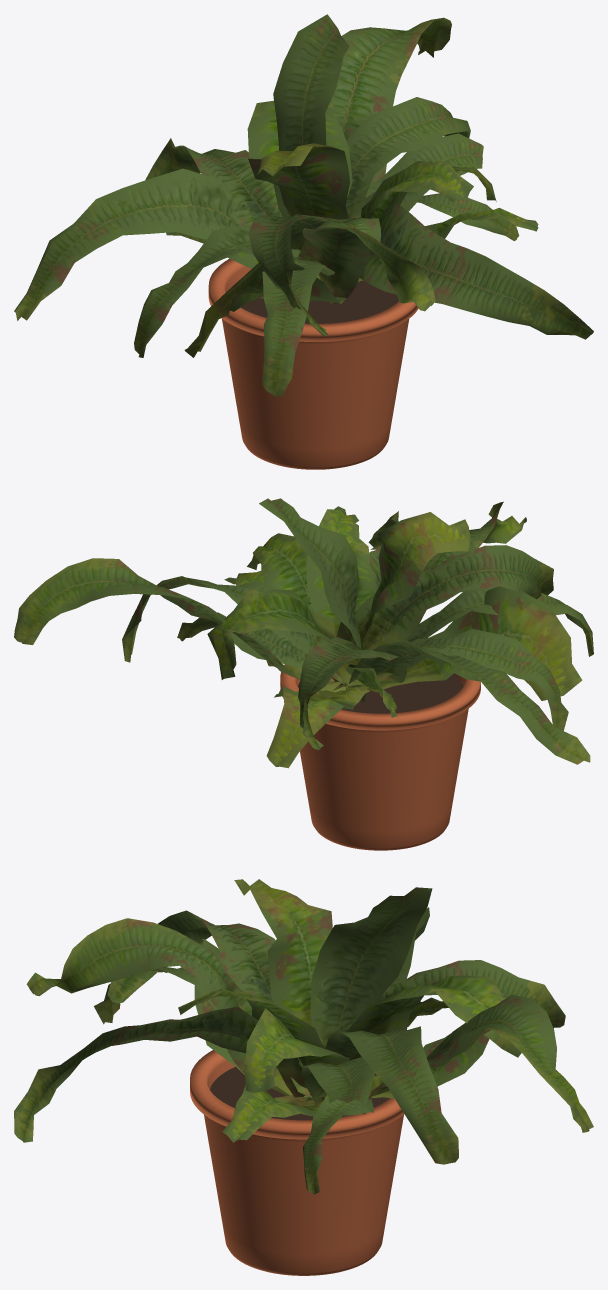
Rendered from plant-fern.glb.
3 views of the same model, one above another, from view 1: azimuth 30°, elevation 25°; view 2: azimuth 150°, elevation 25°; view 3: azimuth 270°, elevation 25° (orthographic). The views are drawn at different scales.
Visible parts, largest first — view 1: fern_02_b, pot, soil; view 2: fern_02_b, pot, soil; view 3: fern_02_b, pot, soil.
Boxes of the visible parts, left/top/right/bottom form: fern_02_b: left=14, top=14, right=593, bottom=396; pot: left=208, top=258, right=418, bottom=469; soil: left=233, top=280, right=399, bottom=323; fern_02_b: left=14, top=498, right=593, bottom=768; pot: left=280, top=664, right=480, bottom=850; soil: left=297, top=674, right=463, bottom=713; fern_02_b: left=14, top=879, right=593, bottom=1194; pot: left=190, top=1050, right=403, bottom=1275; soil: left=210, top=1066, right=389, bottom=1120.
Size of the model in its own units: 0.9403 by 0.6363 by 0.849.
3 materials, 1 textured.
